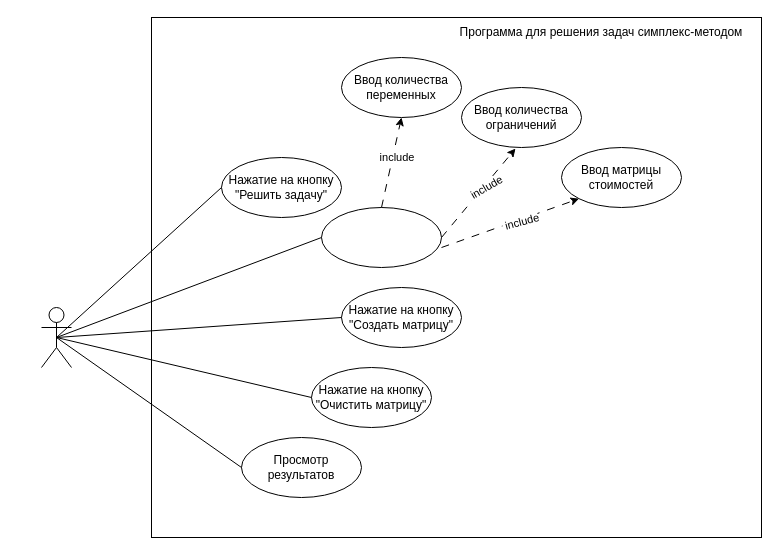
Some shapes in this 779 by 555 pixel diagram are drawn without their labels. Each missing label, with the centre of its shape:
"Ввод данных" goes at (381,237).
"Пользователь" goes at (56,337).
